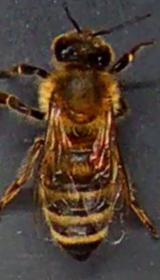varroa_mite: (86, 142, 110, 169)
